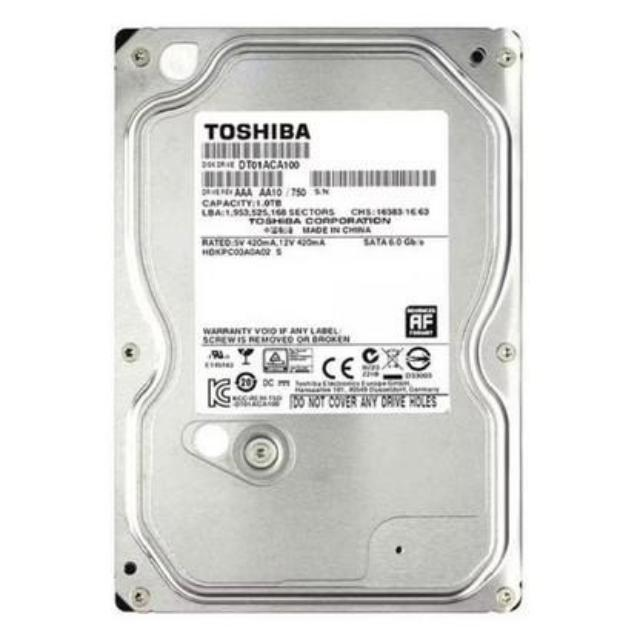DISK: (110, 30, 522, 610)
